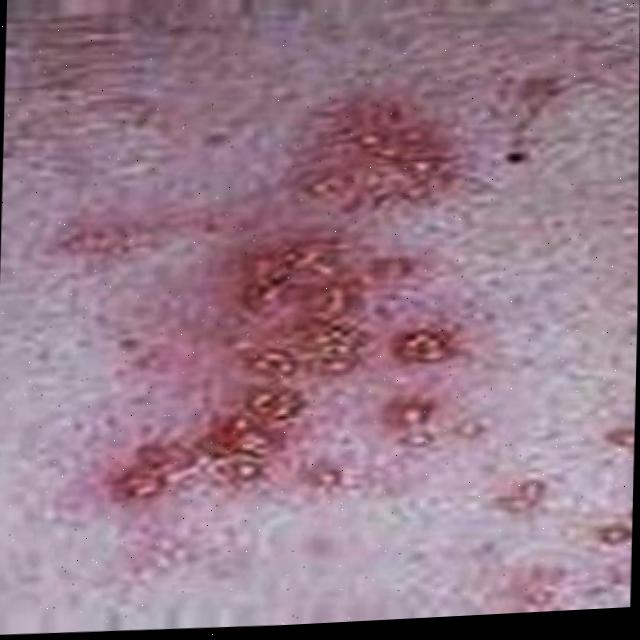Shingles: (120, 110, 466, 527), (502, 475, 547, 512), (590, 522, 630, 547), (615, 426, 634, 451)
